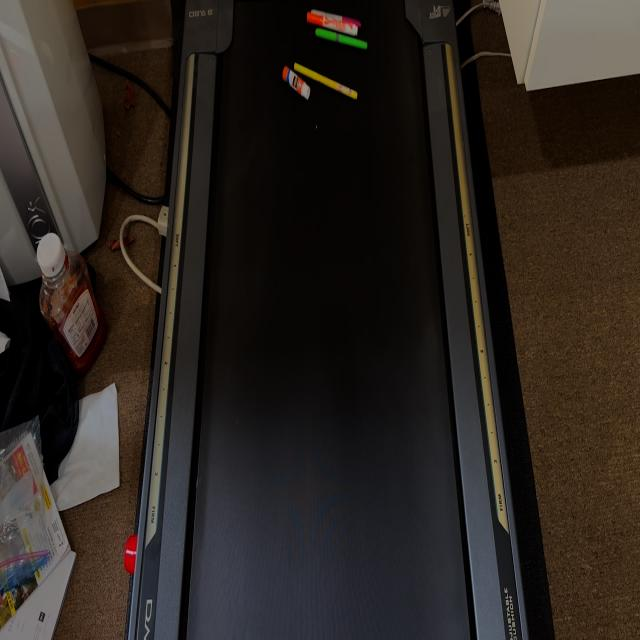Trash: (293, 57, 357, 105), (306, 4, 361, 36), (314, 25, 369, 51), (281, 65, 310, 102)
